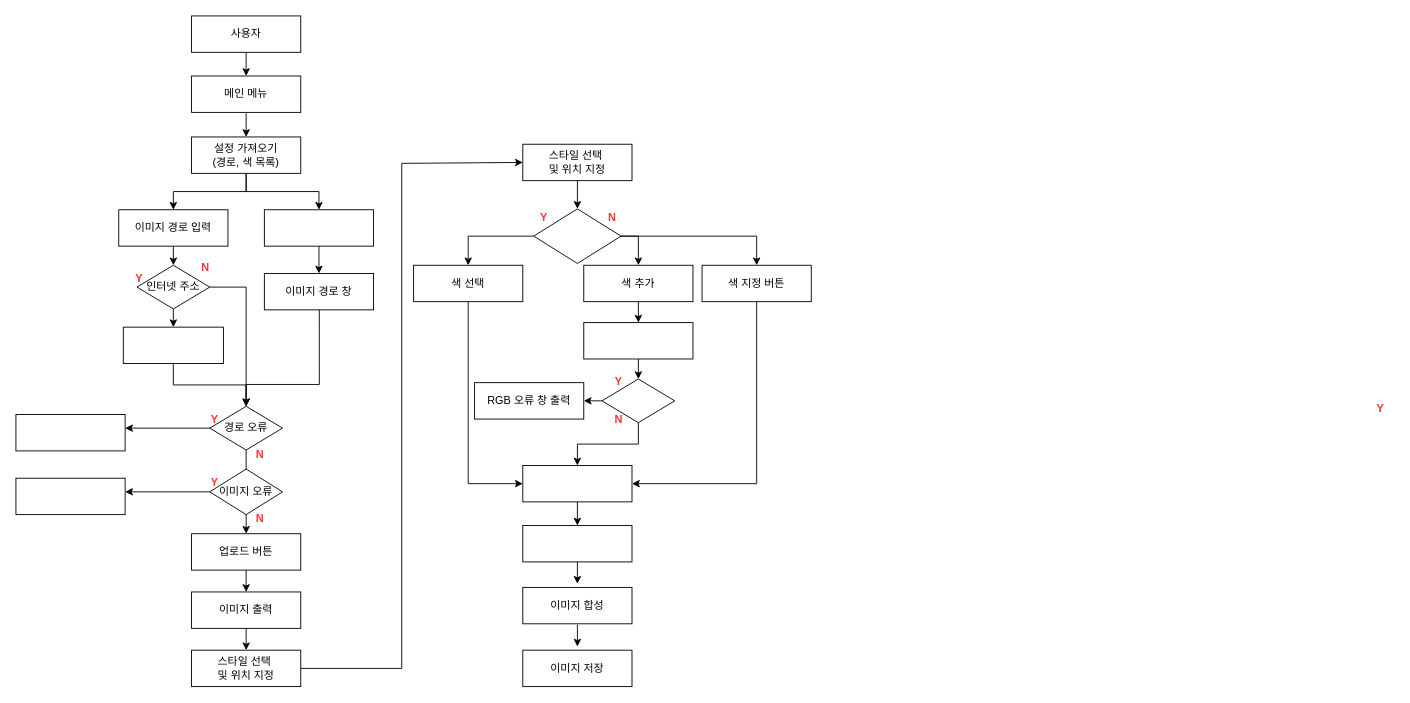
Some shapes in this 1410 by 703 pixel diagram are drawn without their labels. The shapes that lost their labels are listed below. From the top down, each one's box as (x1, y1, x2, y2) in pixels, then its label:
(263, 209, 374, 246): 이미지 경로 버튼
(533, 208, 621, 263): 원하는 색 있을 시
(122, 326, 223, 364): 인터넷 주소에서 이미지 다운로드
(583, 322, 693, 359): 색 목록 저장
(601, 378, 675, 423): RGB 오류
(15, 414, 125, 451): 경로 오류 창 출력
(15, 477, 125, 515): 이미지 오류 창 출력
(522, 465, 632, 502): 합성 버튼 클릭
(522, 525, 632, 562): 색상 값 출력
